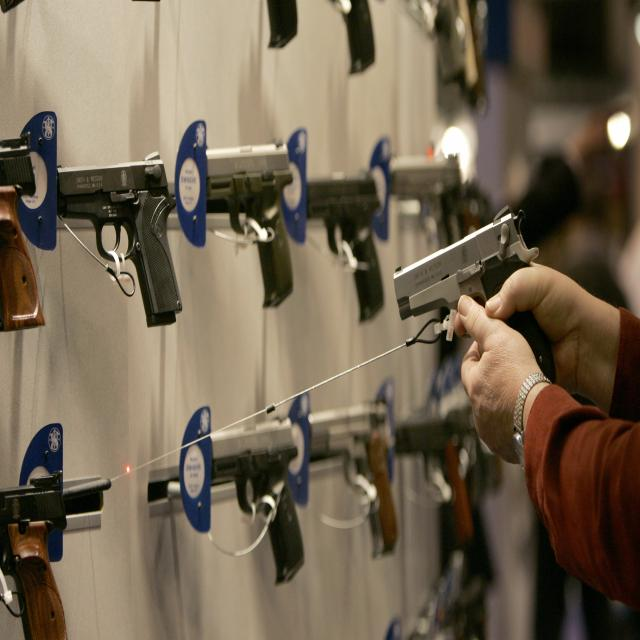HandGun: (394, 214, 551, 383), (57, 160, 183, 329), (211, 426, 304, 585), (207, 145, 294, 309), (309, 404, 398, 554), (307, 179, 383, 324)
